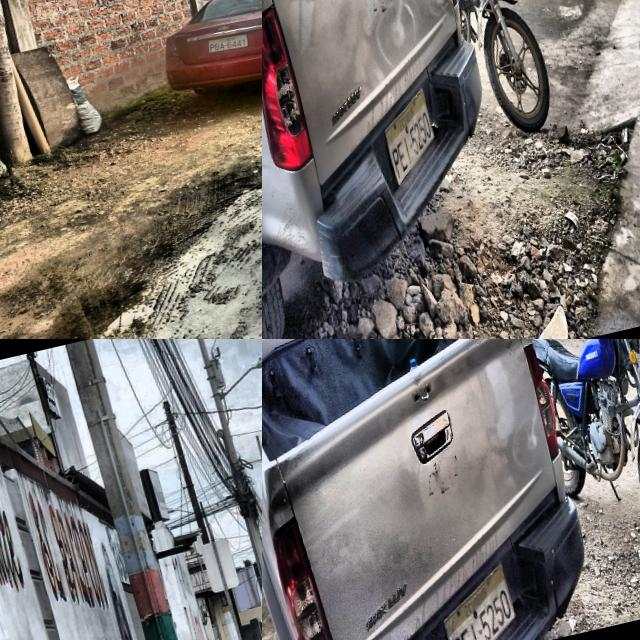license_plate: (443, 561, 518, 640), (382, 84, 436, 191), (207, 32, 250, 53)
